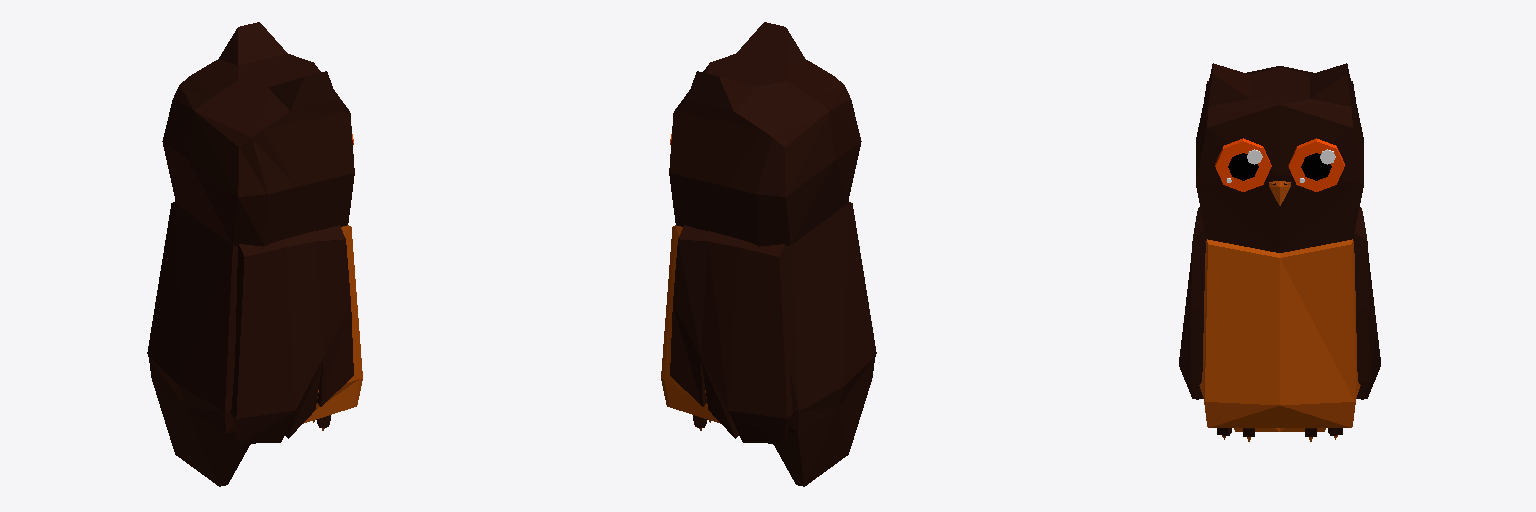
Rendered from Owl_01.obj.
3 renders of one model, left to right at view 1: azimuth 30°, elevation 25°; view 2: azimuth 150°, elevation 25°; view 3: azimuth 270°, elevation 25°, orthographic.
Visible parts, largest first — view 1: Owl_01_Cube.027; view 2: Owl_01_Cube.027; view 3: Owl_01_Cube.027.
Boxes of the visible parts, <box> form: Owl_01_Cube.027: <box>147,22,362,486</box>; Owl_01_Cube.027: <box>661,22,876,486</box>; Owl_01_Cube.027: <box>1179,63,1380,441</box>.
Bounding box in the file's own units: 8.88 × 22.1 × 10.14.